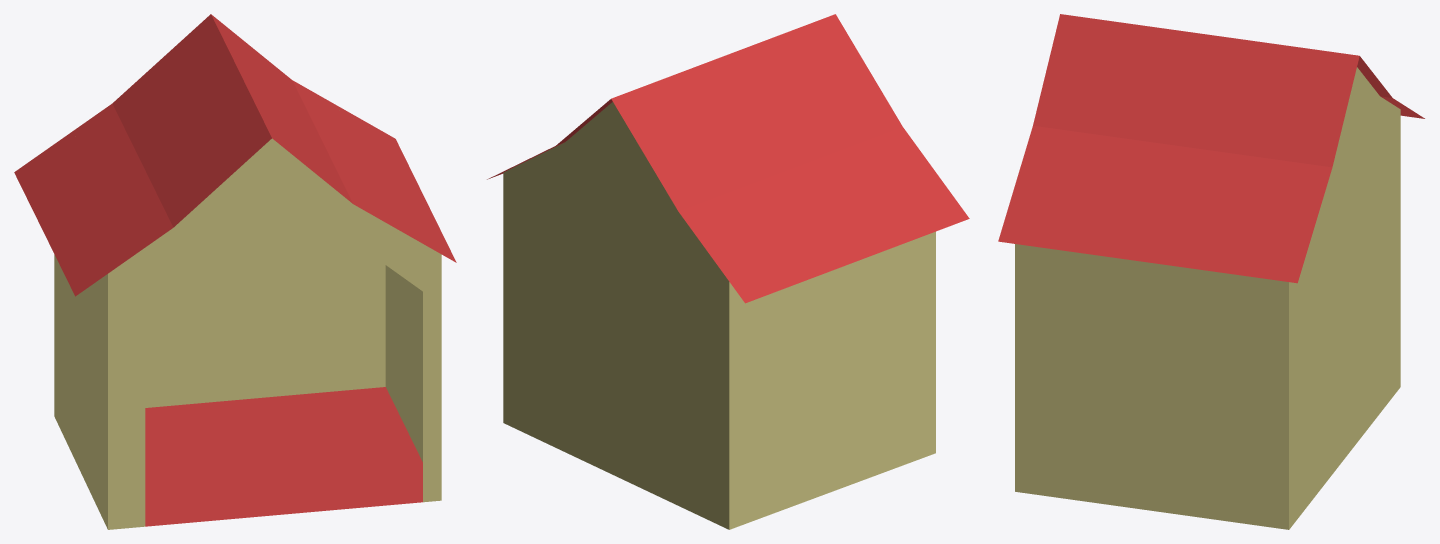
3 views of the same model, side by side, from view 1: azimuth 30°, elevation 25°; view 2: azimuth 150°, elevation 25°; view 3: azimuth 270°, elevation 25° (orthographic). The views are drawn at different scales.
Size of the model in its own units: 18.15 by 15.93 by 16.51.
